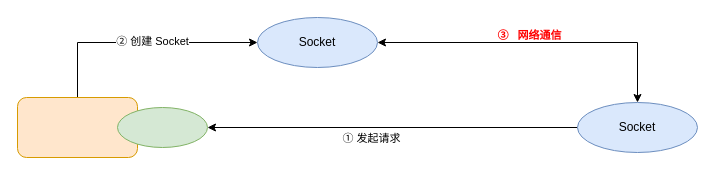
Image size: 715x175. Some labels were removed from this diagram. Each missing label, with the centre of its shape:
accept: (x=162, y=127)
ServerSocket: (x=77, y=127)
